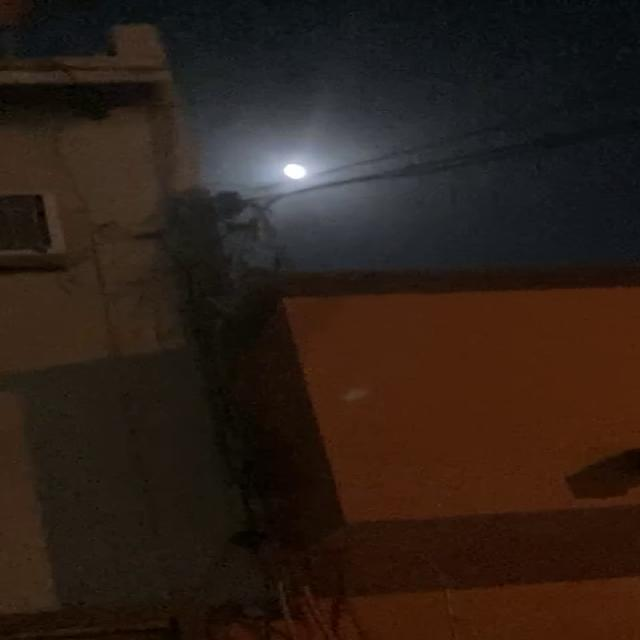moon: (282, 149, 328, 179)
